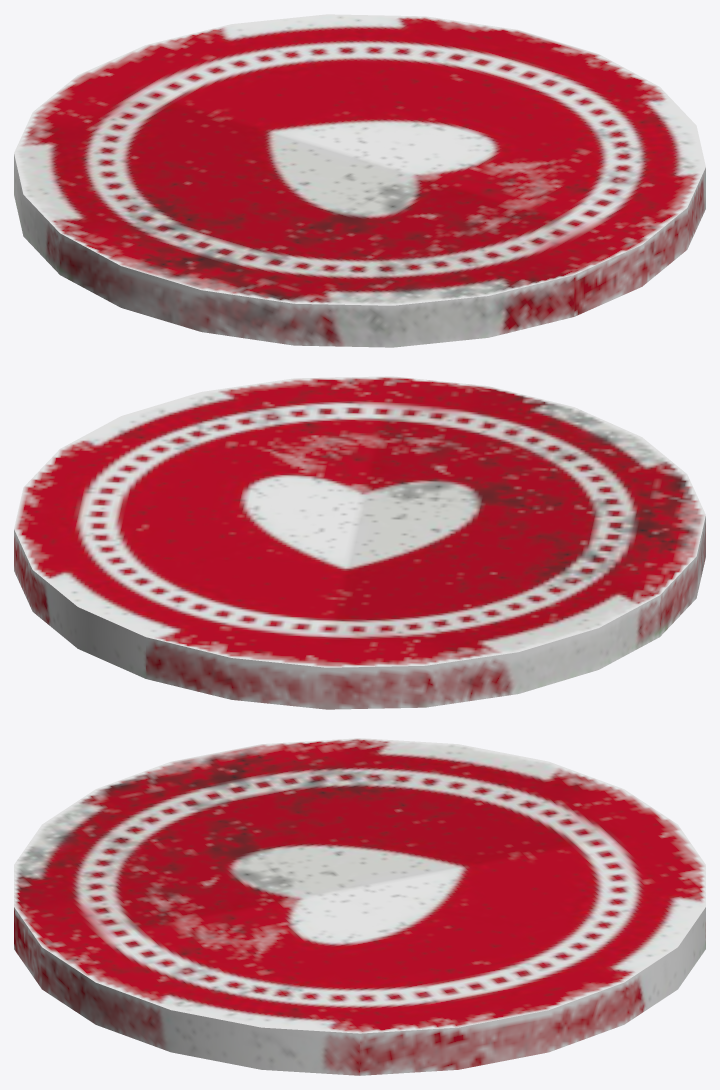
The picture shows the model from 3 angles, top to bottom: view 1: azimuth 30°, elevation 25°; view 2: azimuth 150°, elevation 25°; view 3: azimuth 270°, elevation 25°; orthographic projection.
Visible parts, largest first — view 1: f1__; view 2: f1__; view 3: f1__.
Part boxes in pixels (x1,y1,x2,y2): f1__: [14, 14, 705, 347]; f1__: [14, 376, 705, 709]; f1__: [14, 738, 705, 1075].
Size of the model in its own units: 30 by 2 by 29.69.
1 material, 1 textured.
